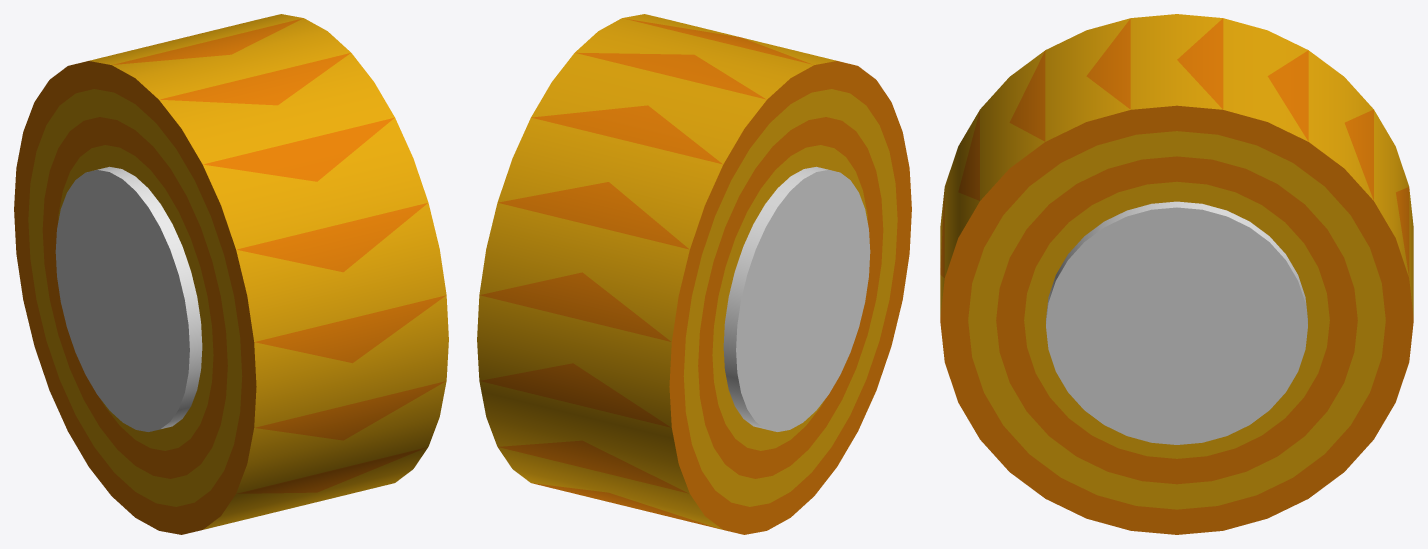
File: ROLER.fbx
3 views of the same model, side by side, from view 1: azimuth 30°, elevation 25°; view 2: azimuth 150°, elevation 25°; view 3: azimuth 270°, elevation 25° (orthographic). The views are drawn at different scales.
Visible parts, largest first — view 1: Cylinder, Cylinder.001; view 2: Cylinder, Cylinder.001; view 3: Cylinder, Cylinder.001.
Boxes of the visible parts, x1,y1,x2,y2 form: Cylinder: [14, 14, 448, 534]; Cylinder.001: [55, 166, 202, 431]; Cylinder: [477, 14, 911, 534]; Cylinder.001: [723, 166, 870, 431]; Cylinder: [940, 14, 1413, 534]; Cylinder.001: [1046, 201, 1307, 444].
Size of the model in its own units: 51.48 by 99.49 by 99.49.
